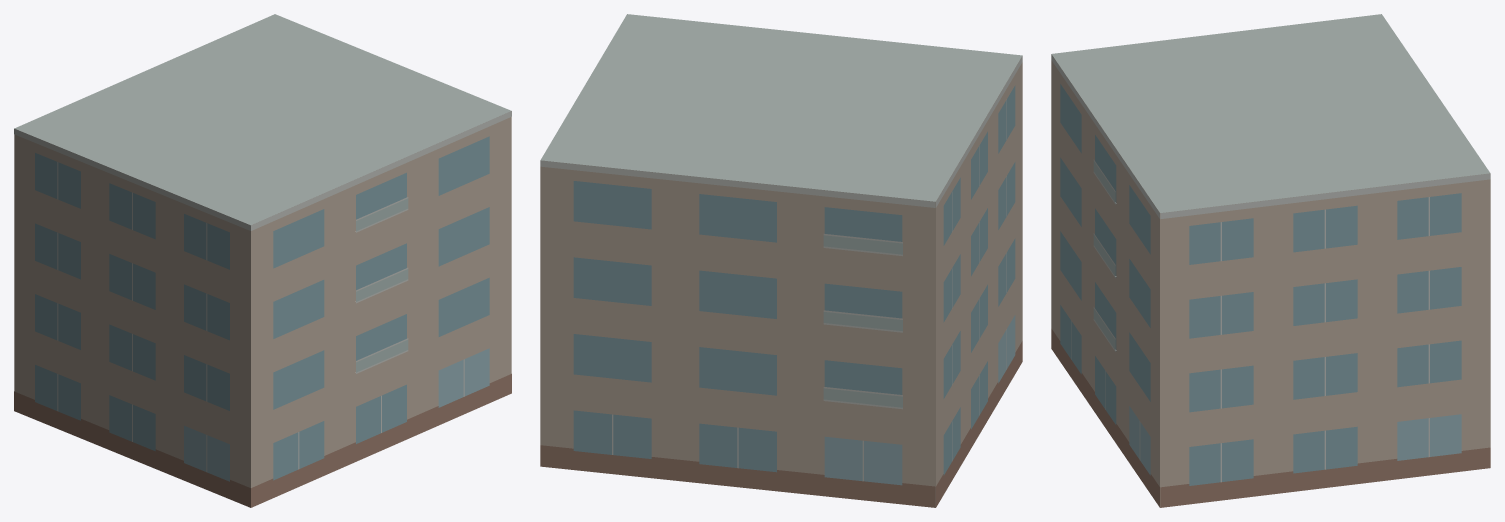
The model's file is survey-upis-32718799.glb.
The picture shows the model from 3 angles, left to right: view 1: azimuth 30°, elevation 25°; view 2: azimuth 150°, elevation 25°; view 3: azimuth 270°, elevation 25°; orthographic projection. The views are drawn at different scales.
Parts seen in each view (by area): view 1: survey-upis-32718799.tmp; view 2: survey-upis-32718799.tmp; view 3: survey-upis-32718799.tmp.
Part boxes in pixels (bbox=[...]): survey-upis-32718799.tmp: bbox=[14, 14, 511, 507]; survey-upis-32718799.tmp: bbox=[540, 14, 1022, 507]; survey-upis-32718799.tmp: bbox=[1051, 14, 1490, 507].
Size of the model in its own units: 17.18 by 11.85 by 16.01.
